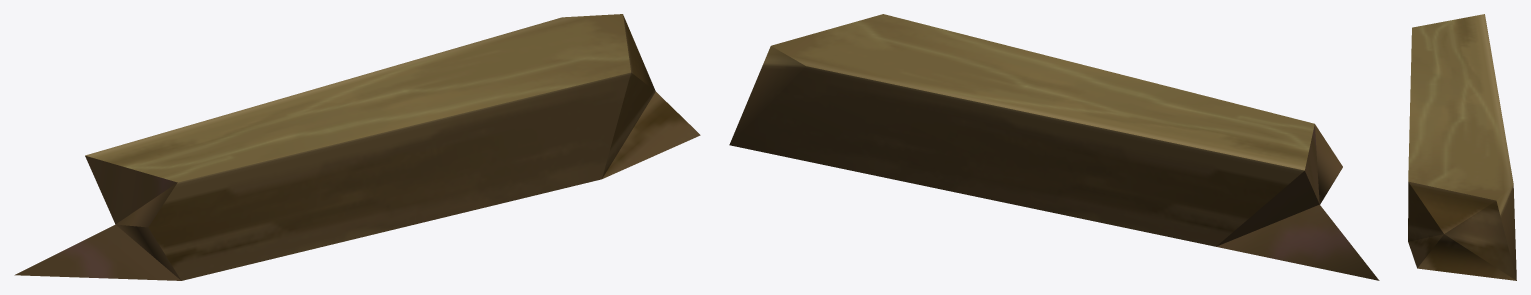
File: Posun_mukuai.FBX
3 renders of one model, left to right at view 1: azimuth 30°, elevation 25°; view 2: azimuth 150°, elevation 25°; view 3: azimuth 270°, elevation 25°, orthographic. The views are drawn at different scales.
Parts seen in each view (by area): view 1: mukuai; view 2: mukuai; view 3: mukuai.
Boxes of the visible parts, bbox=[...] form: mukuai: bbox=[14, 14, 700, 280]; mukuai: bbox=[729, 14, 1379, 280]; mukuai: bbox=[1408, 14, 1516, 280].
Bounding box in the file's own units: 47.02 × 7.05 × 9.65.
